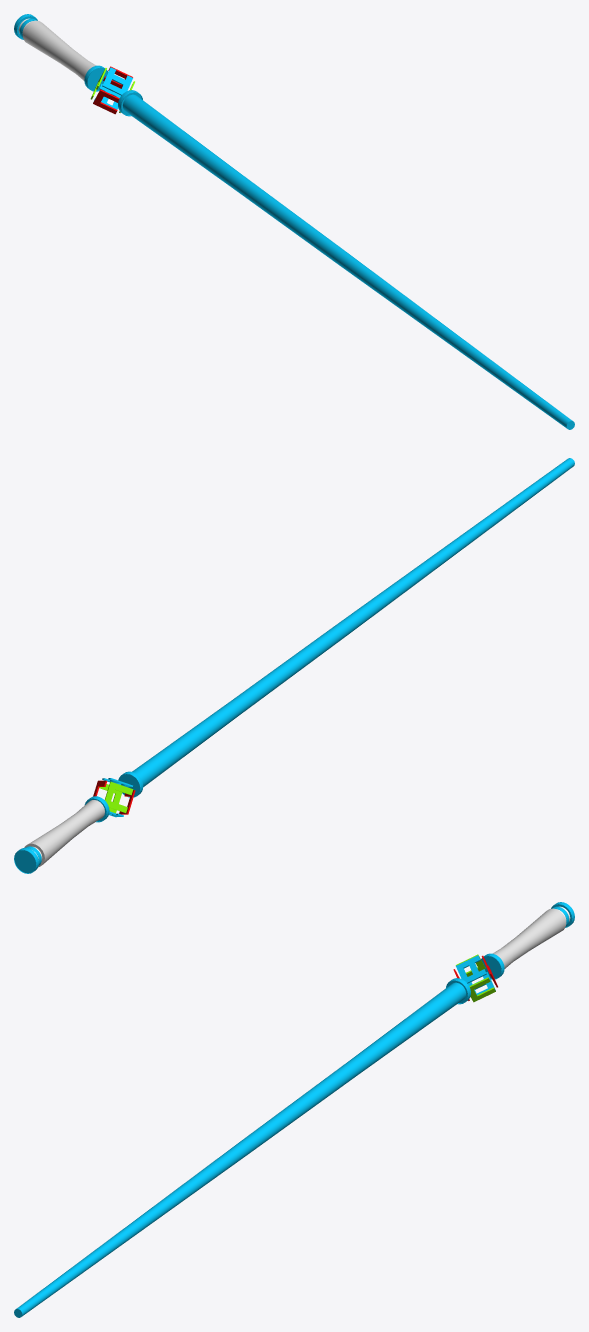
File: acc-saber.glb
The picture shows the model from 3 angles, top to bottom: view 1: azimuth 30°, elevation 25°; view 2: azimuth 150°, elevation 25°; view 3: azimuth 330°, elevation 25°; orthographic projection.
Parts seen in each view (by area): view 1: Left__merged__Glow_mat_blue__0, Left__Cylinder009__Handle__5, Left__Object001__Blue_Energy__1; view 2: Left__merged__Glow_mat_blue__0, Left__Cylinder009__Handle__5, Left__Object003__Green_Energy__2; view 3: Left__merged__Glow_mat_blue__0, Left__Cylinder009__Handle__5, Left__Object001__Blue_Energy__1.
Part boxes in pixels (x1,y1,x2,y2): Left__merged__Glow_mat_blue__0: [14, 14, 574, 429]; Left__Cylinder009__Handle__5: [22, 20, 95, 80]; Left__Object001__Blue_Energy__1: [93, 67, 132, 109]; Left__merged__Glow_mat_blue__0: [14, 458, 574, 873]; Left__Cylinder009__Handle__5: [24, 800, 104, 867]; Left__Object003__Green_Energy__2: [99, 781, 133, 813]; Left__merged__Glow_mat_blue__0: [14, 902, 574, 1317]; Left__Cylinder009__Handle__5: [493, 908, 566, 968]; Left__Object001__Blue_Energy__1: [456, 955, 495, 994].
Size of the model in its own units: 0.0441 by 0.0509 by 1.17.
